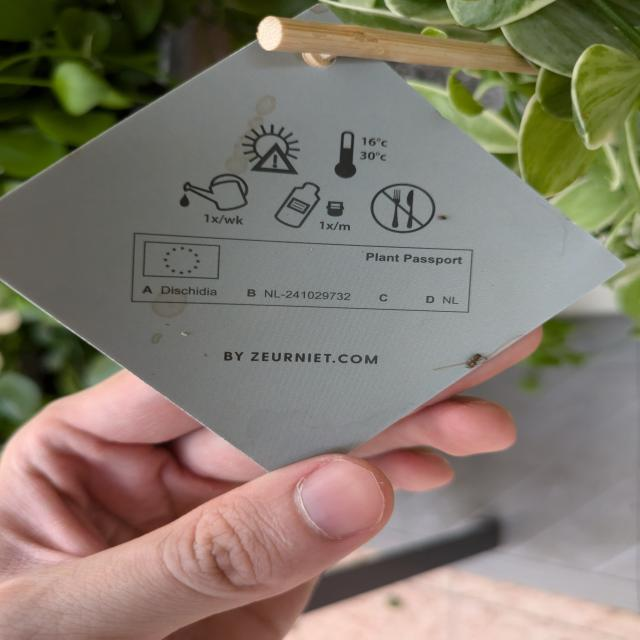dungen: (272, 174, 359, 237)
keine Sonne: (238, 116, 306, 175)
mittel giesen: (177, 169, 258, 228)
